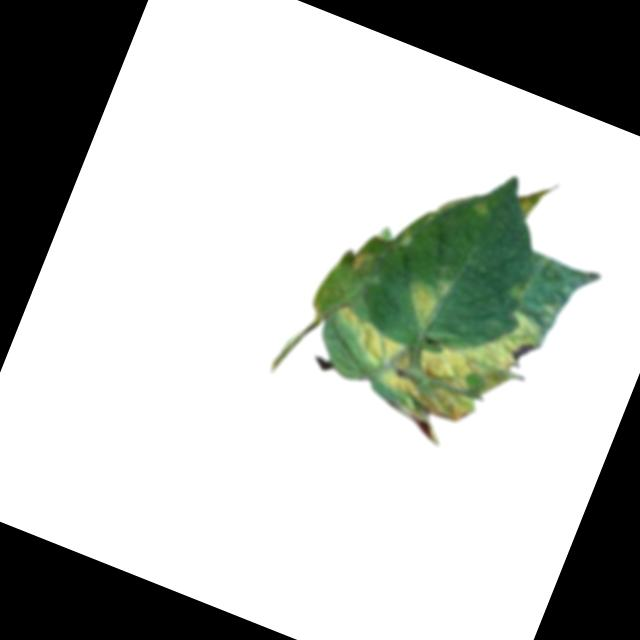Leaf_Mold: (391, 280, 549, 469), (316, 305, 437, 404), (395, 262, 455, 334), (510, 167, 567, 228), (343, 243, 375, 279)
